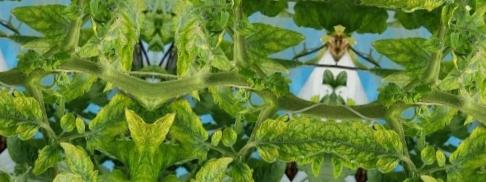Tomato leaf yellow virus: (241, 107, 332, 172), (238, 20, 309, 68), (146, 108, 189, 159), (184, 145, 233, 182), (231, 0, 347, 12), (200, 181, 238, 182)
